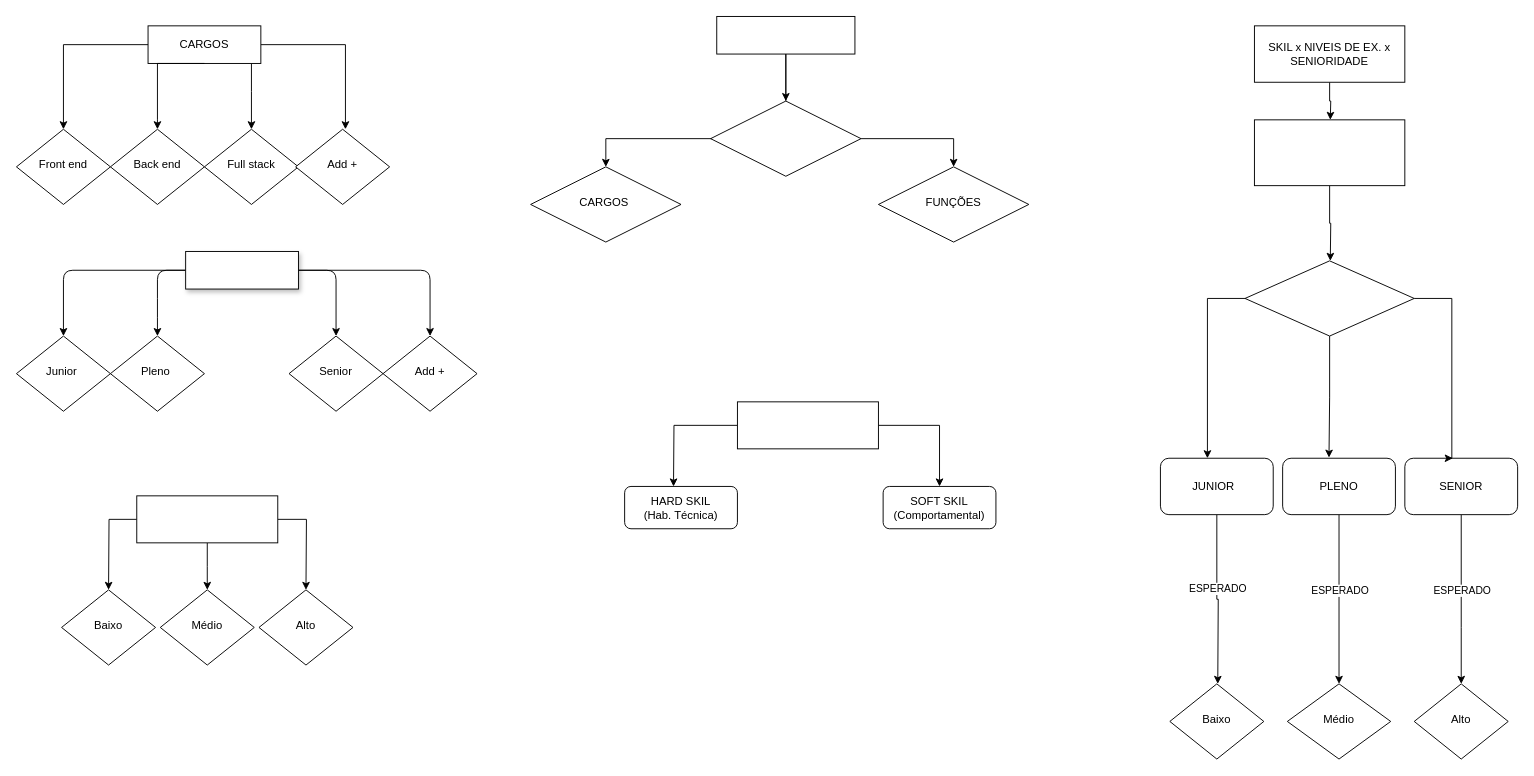
The diagram is 1534 pixels wide and 776 high, and some of its shapes have lost their labels. The shapes that lost their labels are listed below. From the top down, each one's centre as x and y in pixels, then its label:
At point (785, 35): "PESSOAS".
At point (785, 138): "NOME".
At point (1329, 152): "NIVEIS ESPERADO PARA CADA CARGO DE ACORDO COM CADA TIPO DE AVALIATIVO".
At point (242, 271): "NIVEIS SENORIDADE".
At point (1329, 298): "COMUNICAÇÃO".
At point (807, 425): "SKILS".
At point (207, 519): "NIVEIS DE EXIGÊNCIA".
